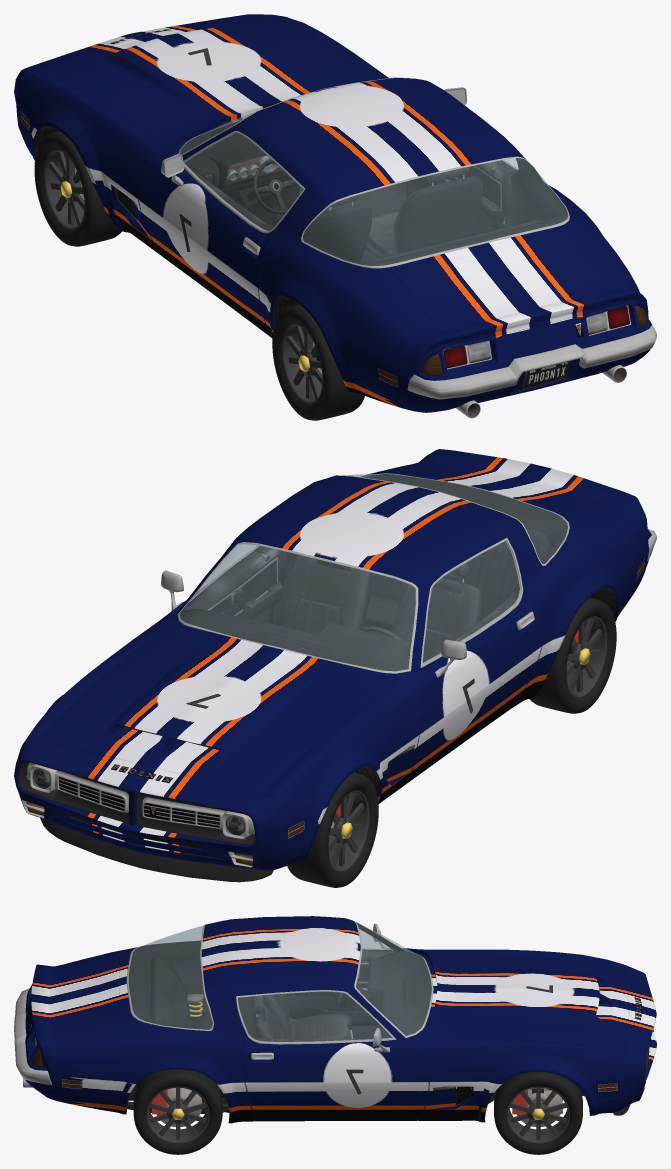
The model's file is phoenix.glb.
3 views of the same model, one above another, from view 1: azimuth 30°, elevation 25°; view 2: azimuth 150°, elevation 25°; view 3: azimuth 270°, elevation 25° (orthographic). The views are drawn at different scales.
Visible parts, largest first — view 1: Body, Hood, Interior, Rear_Glass, Door_FL, Trunk, Bumper_R, Window_FL, Tire_RL, Tire_FL, Door_FR, Rim_RL (+3 smaller); view 2: Body, Hood, Interior, Windshield, Bumper_F, Door_FL, Window_FL, Trunk, Door_FR, Tire_FL, Rear_Glass, Tire_RL (+3 smaller); view 3: Body, Hood, Door_FR, Interior, Rear_Glass, Window_FR, Trunk, Windshield, Tire_RR, Tire_FR, Door_FL, Bumper_R (+5 smaller).
Boxes of the visible parts, left/top/right/bottom form: Body: left=17, top=14, right=651, bottom=410; Hood: left=20, top=14, right=377, bottom=147; Interior: left=178, top=77, right=567, bottom=265; Rear_Glass: left=303, top=158, right=567, bottom=265; Door_FL: left=139, top=123, right=329, bottom=338; Trunk: left=397, top=234, right=624, bottom=344; Bumper_R: left=377, top=293, right=656, bottom=418; Window_FL: left=184, top=133, right=302, bottom=230; Tire_RL: left=272, top=304, right=364, bottom=420; Tire_FL: left=34, top=131, right=122, bottom=246; Door_FR: left=405, top=80, right=526, bottom=235; Rim_RL: left=281, top=323, right=322, bottom=404; Body: left=26, top=449, right=651, bottom=847; Hood: left=20, top=620, right=394, bottom=814; Interior: left=177, top=474, right=567, bottom=673; Windshield: left=179, top=544, right=415, bottom=670; Bumper_F: left=14, top=739, right=314, bottom=882; Door_FL: left=392, top=524, right=555, bottom=784; Window_FL: left=423, top=541, right=520, bottom=663; Trunk: left=397, top=450, right=624, bottom=514; Door_FR: left=161, top=502, right=286, bottom=625; Tire_FL: left=287, top=772, right=378, bottom=887; Rear_Glass: left=346, top=474, right=567, bottom=563; Tire_RL: left=529, top=597, right=616, bottom=713; Body: left=31, top=916, right=642, bottom=1122; Hood: left=422, top=951, right=653, bottom=1060; Door_FR: left=206, top=985, right=428, bottom=1123; Interior: left=128, top=921, right=433, bottom=1039; Rear_Glass: left=129, top=925, right=212, bottom=1029; Window_FR: left=238, top=992, right=391, bottom=1042; Trunk: left=31, top=954, right=121, bottom=1034; Windshield: left=356, top=923, right=431, bottom=1035; Tire_RR: left=133, top=1069, right=222, bottom=1154; Tire_FR: left=494, top=1072, right=582, bottom=1154; Door_FL: left=251, top=920, right=405, bottom=1025; Bumper_R: left=14, top=985, right=82, bottom=1100.
Size of the model in its own units: 2.03 by 1.35 by 4.91.
20 materials, 7 textured.
